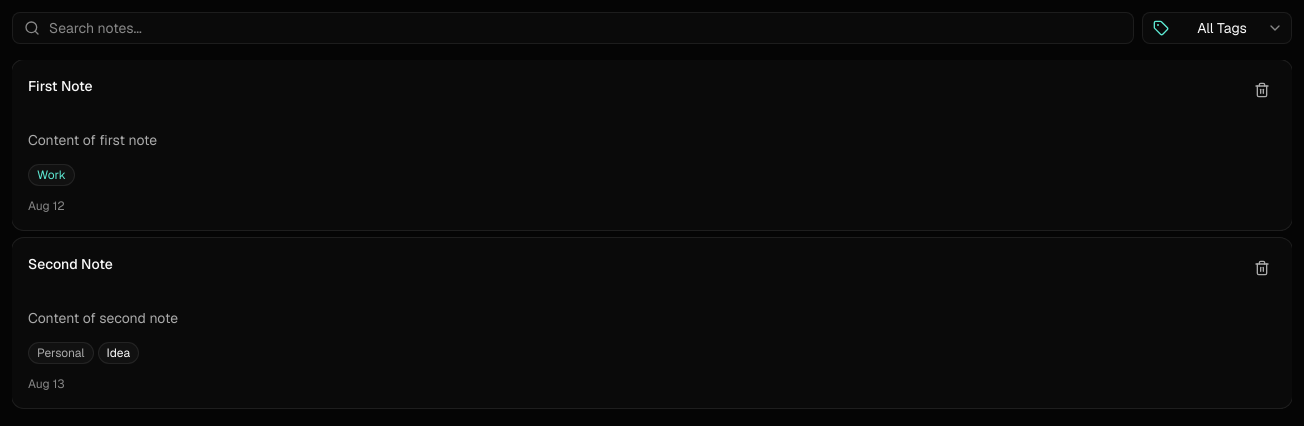
Scenario: NotesList › filters notes by search query
Type "First" into the field with placeholder "Search notes...". click: [573, 28]
box: [12,12,1134,44]
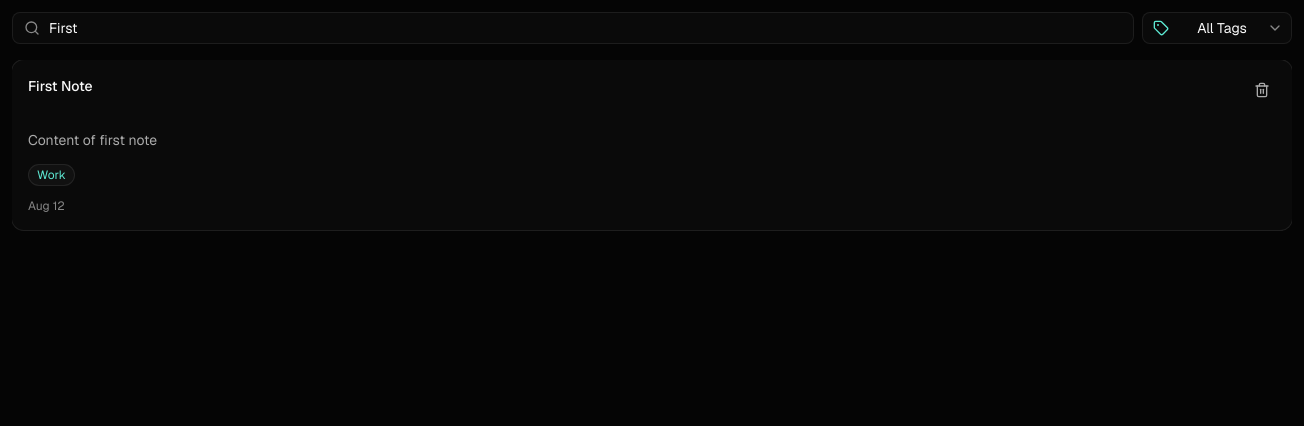
Expected: the text "First Note" is shown, [28,77,93,95]
Expected: the text "Second Note" is gone
